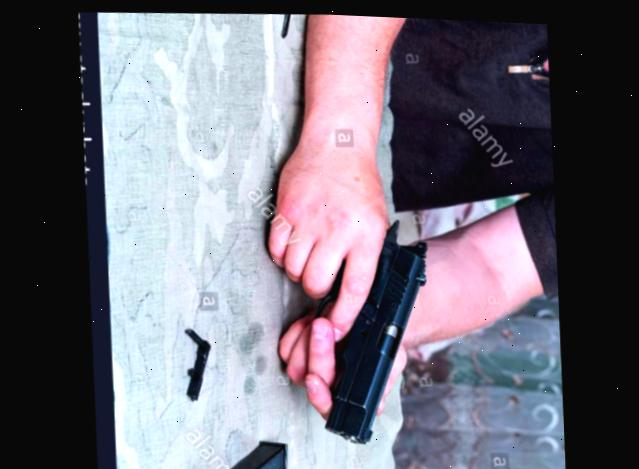pistol: (306, 188, 445, 452)
